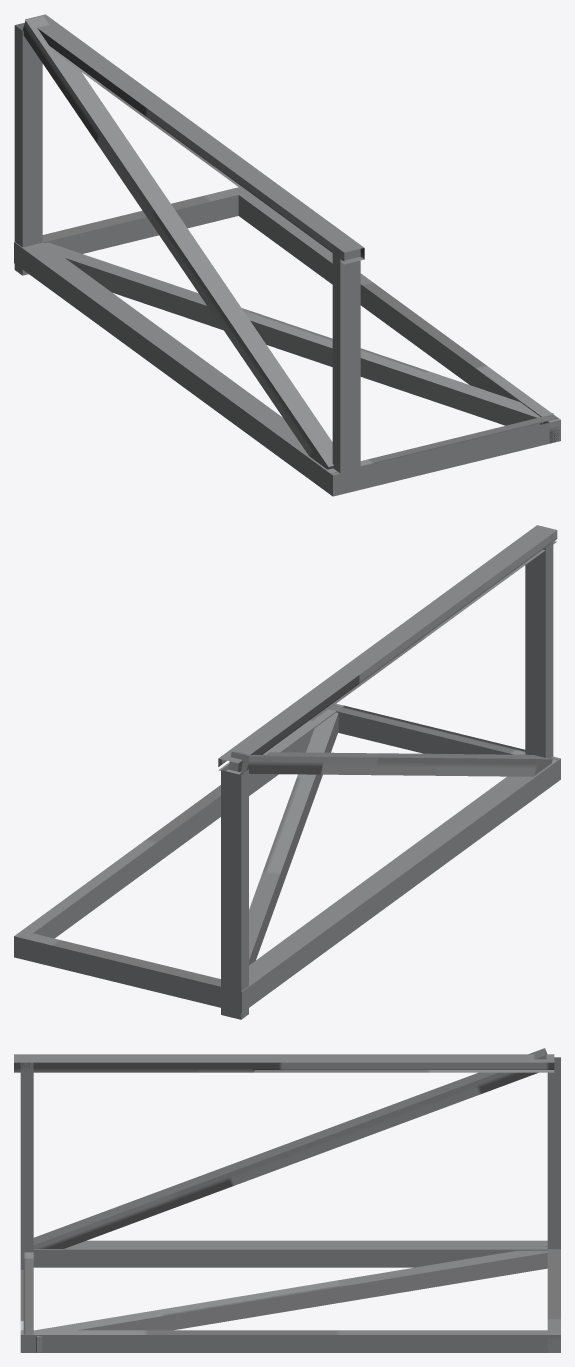
3 renders of one model, top to bottom at view 1: azimuth 30°, elevation 25°; view 2: azimuth 150°, elevation 25°; view 3: azimuth 270°, elevation 25°, orthographic. The views are drawn at different scales.
Bounding box in the file's own units: 1.03 × 1.09 × 2.49.
